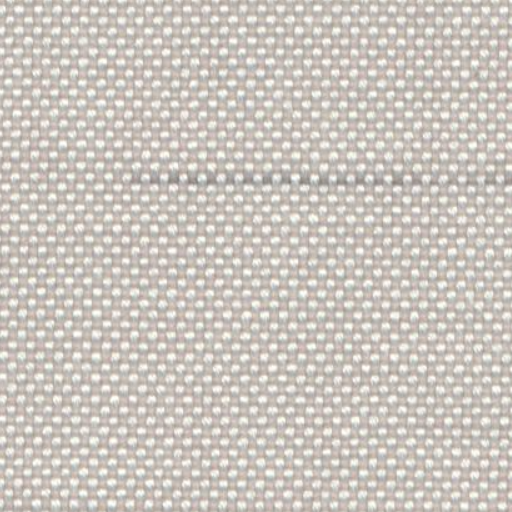WuZi: (124, 158, 496, 202)
